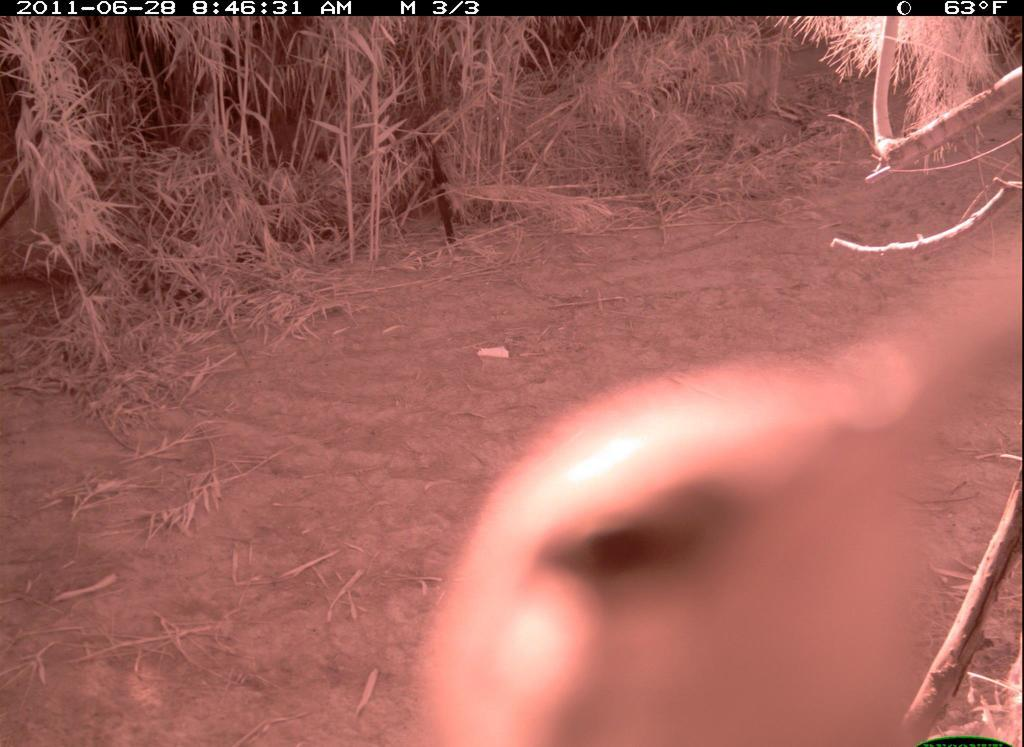bird: (407, 240, 1022, 747)
